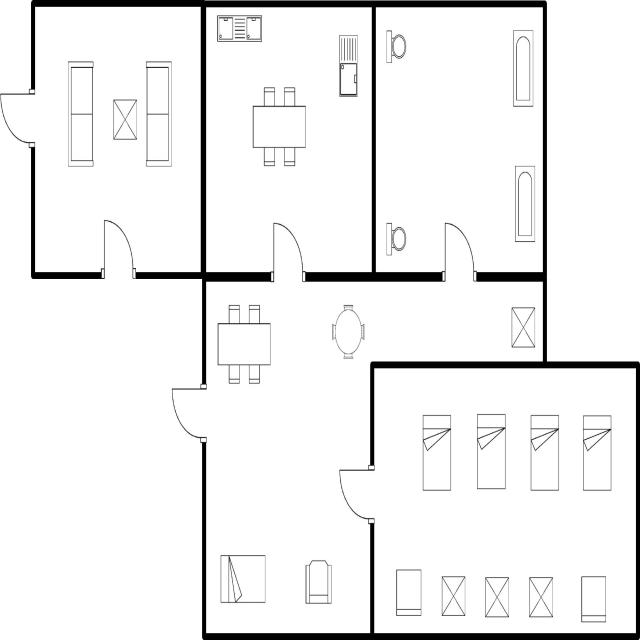armchair: (301, 553, 335, 609)
bed: (578, 410, 614, 497), (527, 409, 562, 498), (472, 408, 508, 494), (420, 411, 455, 497), (218, 550, 268, 608)
coffee_table: (482, 572, 513, 625), (524, 572, 556, 622), (508, 301, 538, 352), (110, 94, 138, 143), (439, 572, 467, 619)
dining_table: (212, 296, 274, 386), (249, 83, 309, 174)
large_sink: (382, 24, 407, 72), (383, 218, 408, 262)
large_sofa: (143, 52, 174, 174), (64, 55, 96, 172)
round_table: (328, 299, 370, 364)
sink: (338, 29, 360, 103)
small_sofa: (392, 564, 423, 622), (578, 572, 609, 626)
tub: (509, 25, 536, 114), (512, 160, 538, 246)
twin_sink: (214, 11, 264, 48)
